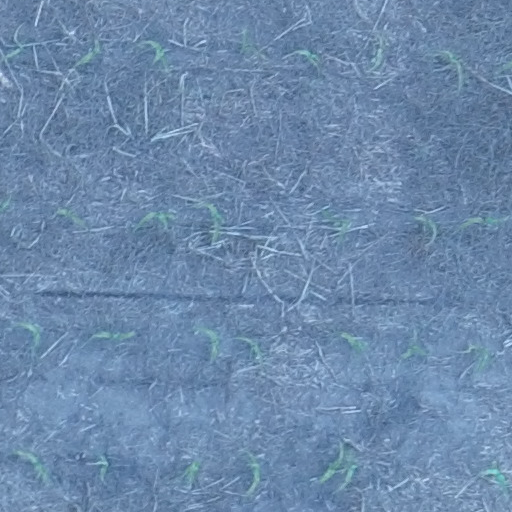planta: (319, 447, 357, 487), (434, 51, 463, 93), (11, 448, 49, 480), (193, 202, 222, 242), (321, 209, 350, 241), (413, 215, 438, 250), (239, 25, 262, 60), (484, 463, 510, 493), (198, 327, 220, 361), (141, 39, 167, 67), (244, 450, 260, 493), (232, 335, 261, 358), (137, 211, 175, 227), (338, 331, 366, 352), (467, 343, 488, 371), (74, 45, 101, 66), (18, 321, 41, 343), (462, 216, 501, 227), (297, 50, 322, 67), (184, 460, 201, 483), (95, 331, 134, 340), (403, 345, 425, 358)
